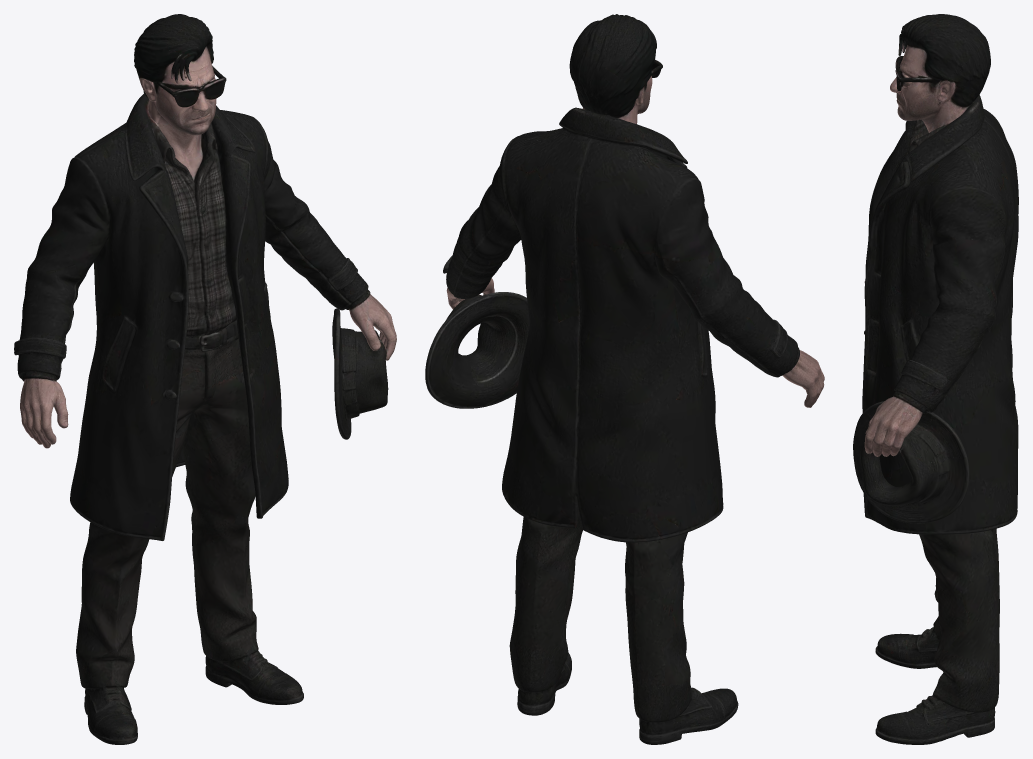
Rendered from pflash.glb.
3 views of the same model, side by side, from view 1: azimuth 30°, elevation 25°; view 2: azimuth 150°, elevation 25°; view 3: azimuth 270°, elevation 25° (orthographic).
Size of the model in its own units: 1.07 by 1.9 by 0.4196.
Materials: 1 (1 with a texture image).
